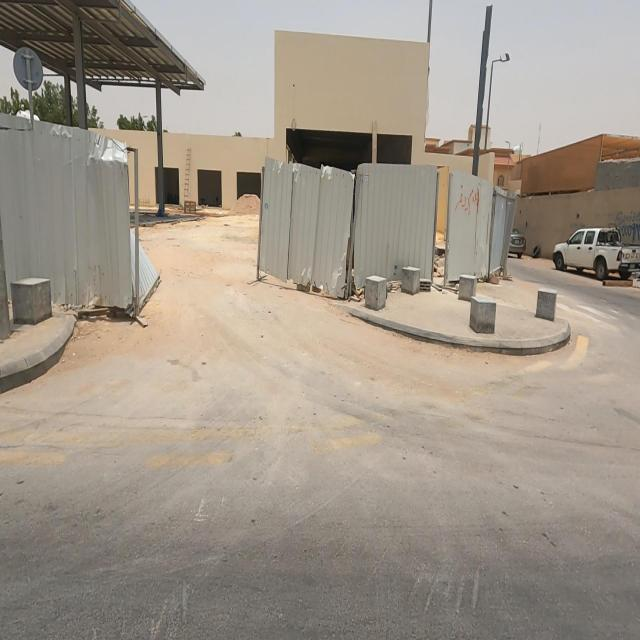Graffiti: (616, 209, 640, 245), (457, 183, 481, 215)
